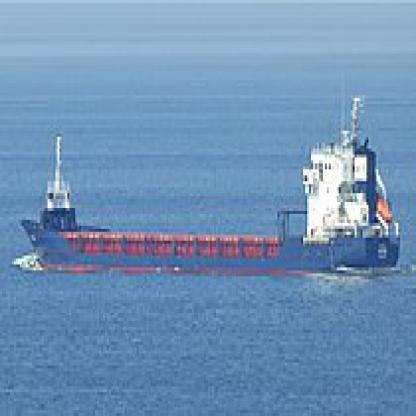Container Ship: (14, 92, 401, 276)
